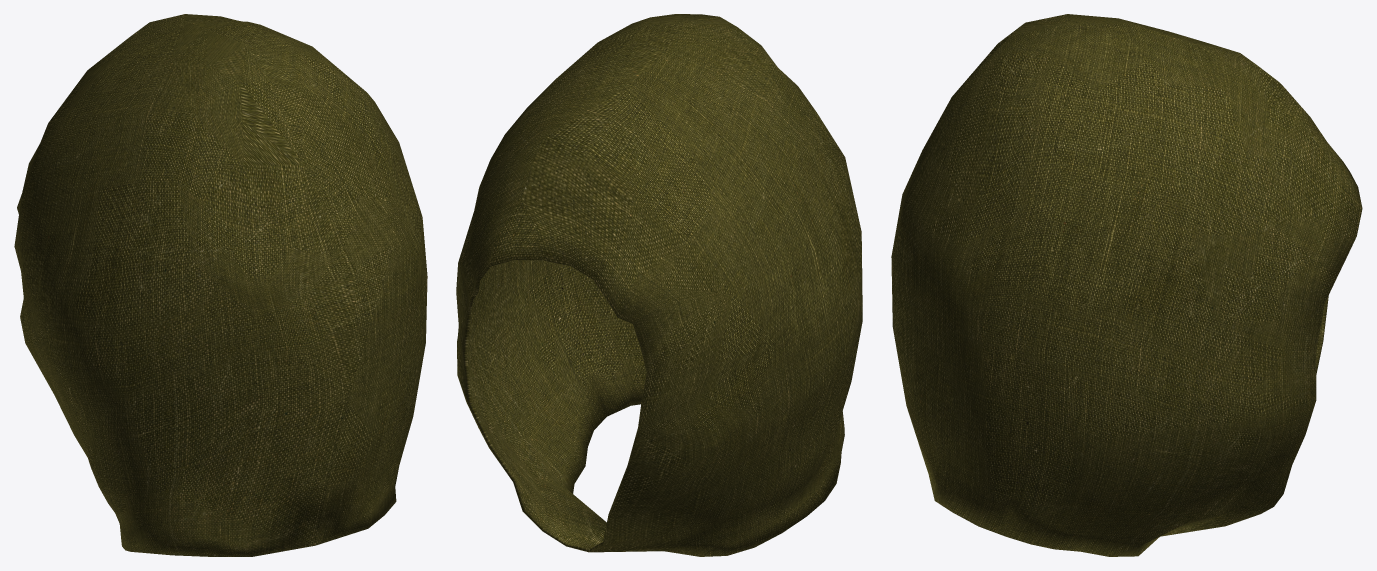
File: Hood.fbx
3 renders of one model, left to right at view 1: azimuth 30°, elevation 25°; view 2: azimuth 150°, elevation 25°; view 3: azimuth 270°, elevation 25°, orthographic. The views are drawn at different scales.
Parts seen in each view (by area): view 1: Hood; view 2: Hood; view 3: Hood.
Boxes of the visible parts, <box> form: Hood: <box>14,14,427,556</box>; Hood: <box>456,14,862,556</box>; Hood: <box>891,14,1362,556</box>.
Bounding box in the file's own units: 0.2305 × 0.276 × 0.3235.
